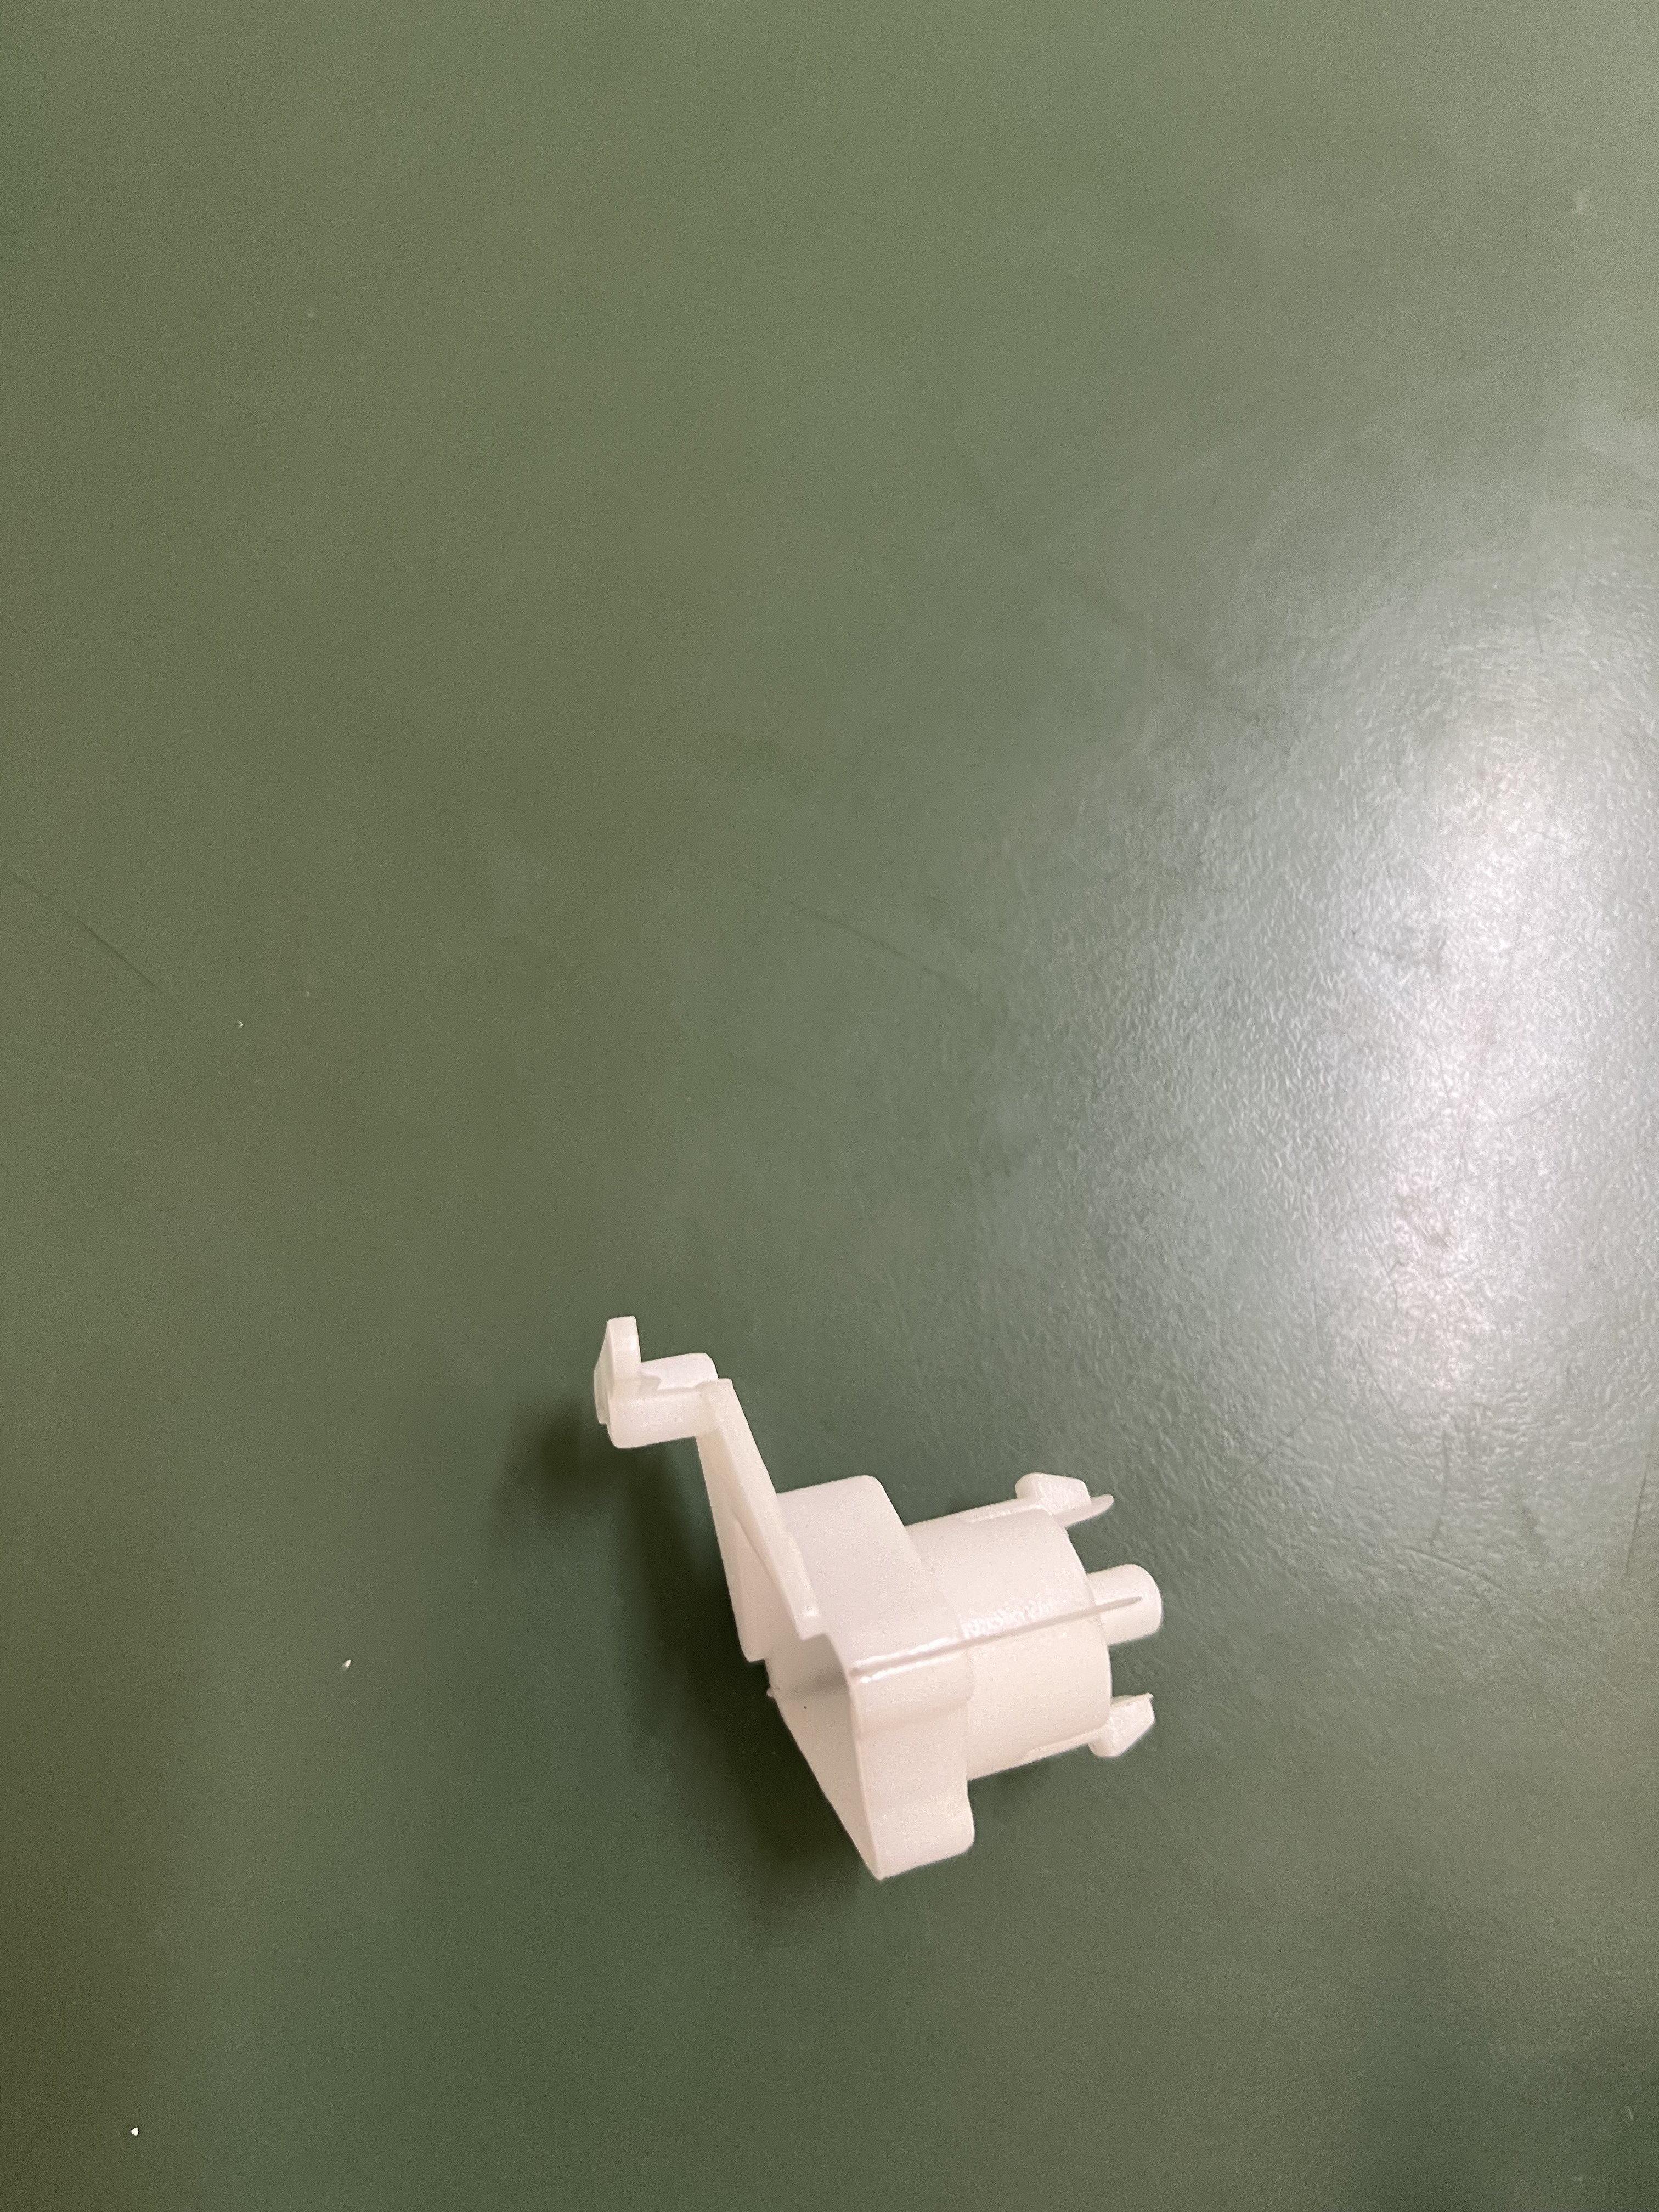drain_lever: (565, 1277, 1182, 1878)
